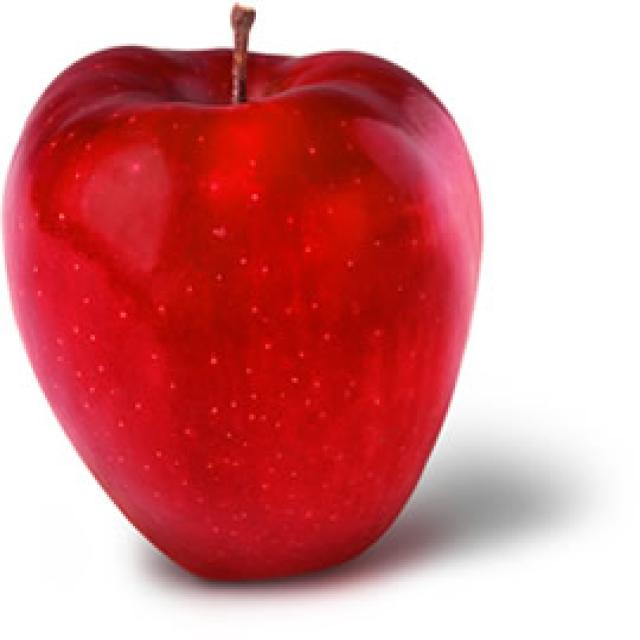apple: (3, 38, 492, 592)
